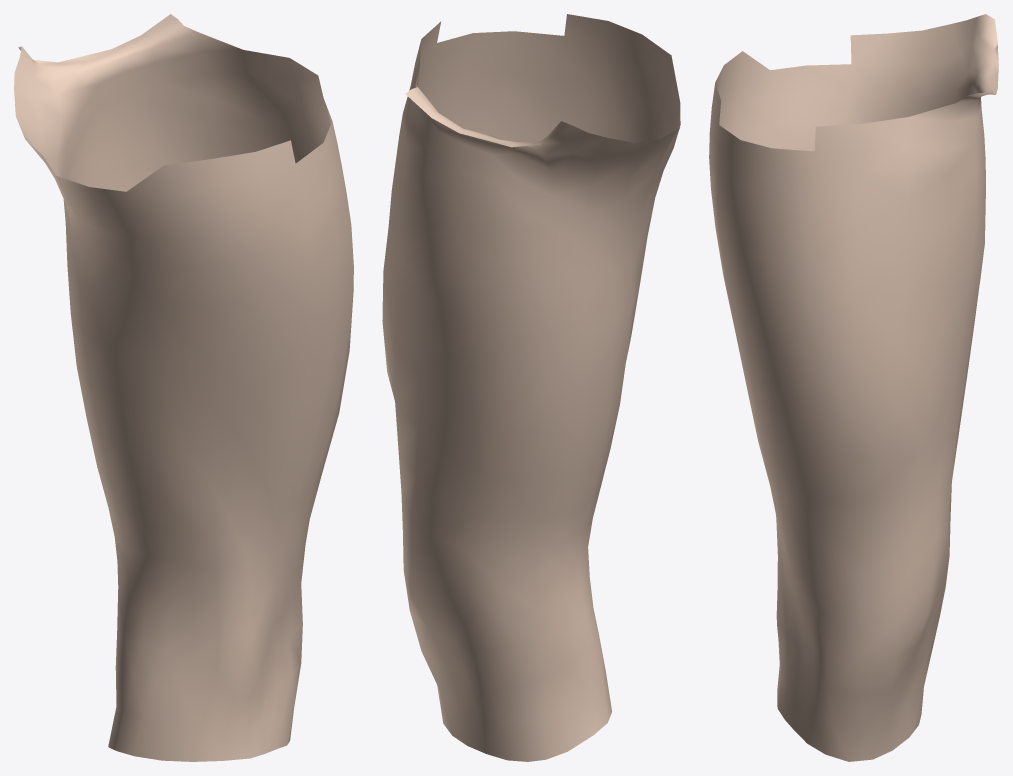
Rendered from human_rightupperleg.dae.
The picture shows the model from 3 angles, left to right: view 1: azimuth 30°, elevation 25°; view 2: azimuth 150°, elevation 25°; view 3: azimuth 270°, elevation 25°; orthographic projection. The views are drawn at different scales.
Parts seen in each view (by area): view 1: frank_skeleton-base; view 2: frank_skeleton-base; view 3: frank_skeleton-base.
Part boxes in pixels (box(x1,y1,x2,y2)): frank_skeleton-base: box(14, 14, 353, 761); frank_skeleton-base: box(382, 14, 680, 761); frank_skeleton-base: box(709, 14, 998, 761).
Size of the model in its own units: 0.2108 by 0.1894 by 0.4779.
